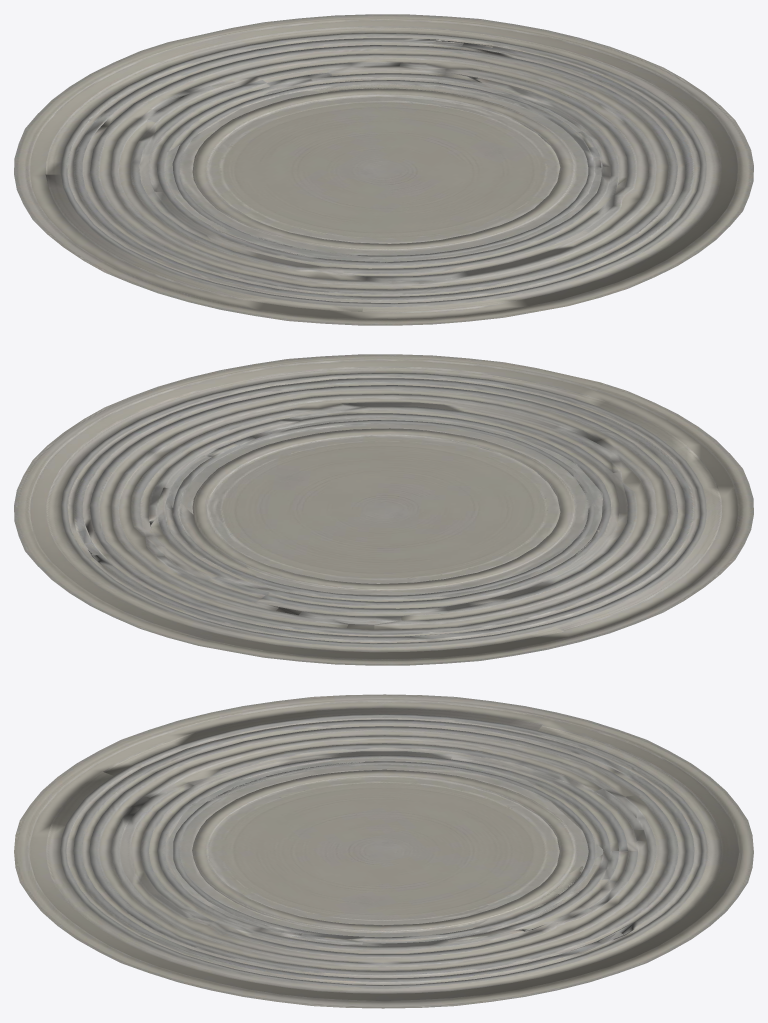
Rendered from saturn-rings.glb.
The picture shows the model from 3 angles, top to bottom: view 1: azimuth 30°, elevation 25°; view 2: azimuth 150°, elevation 25°; view 3: azimuth 270°, elevation 25°; orthographic projection.
Visible parts, largest first — view 1: Saturn Broad Ring System; view 2: Saturn Broad Ring System; view 3: Saturn Broad Ring System.
Boxes of the visible parts, left/top/right/bottom form: Saturn Broad Ring System: left=14, top=14, right=753, bottom=325; Saturn Broad Ring System: left=14, top=354, right=753, bottom=665; Saturn Broad Ring System: left=14, top=694, right=753, bottom=1008.
Bounding box in the file's own units: 0.998 × 0.00195 × 0.998.
1 material, 1 textured.
